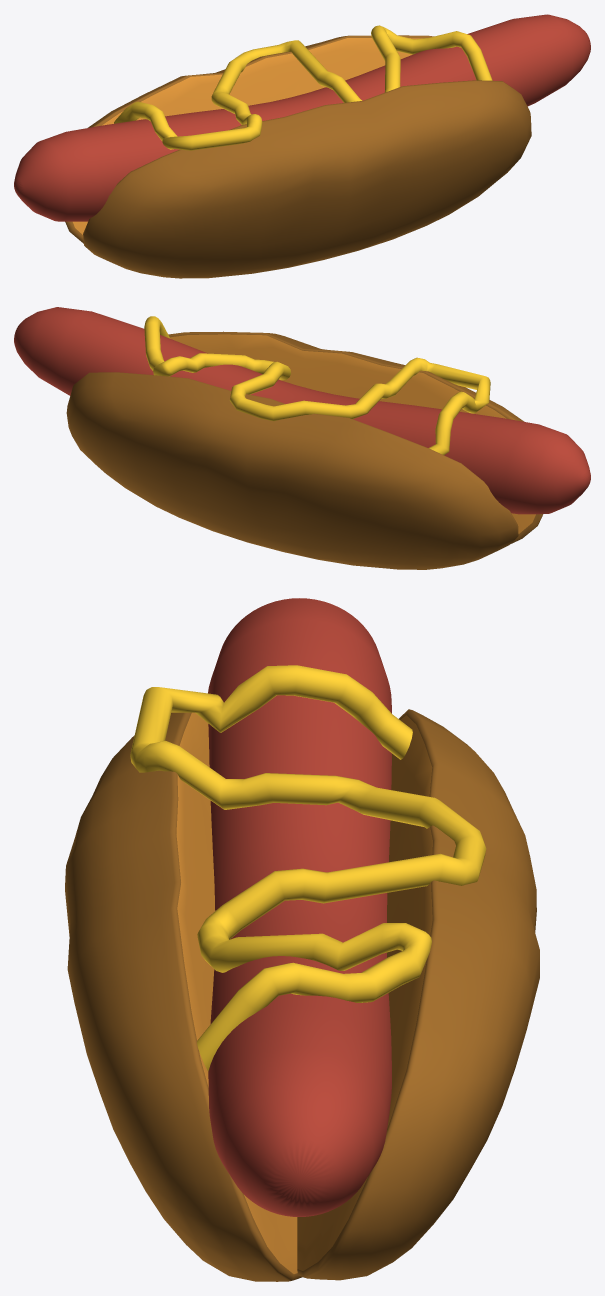
Rendered from hot_dog.fbx.
The picture shows the model from 3 angles, top to bottom: view 1: azimuth 30°, elevation 25°; view 2: azimuth 150°, elevation 25°; view 3: azimuth 270°, elevation 25°; orthographic projection. The views are drawn at different scales.
Visible parts, largest first — view 1: Plane.001; view 2: Plane.001; view 3: Plane.001.
Boxes of the visible parts, <box> form: Plane.001: <box>14,14,590,278</box>; Plane.001: <box>14,307,590,569</box>; Plane.001: <box>65,598,539,1281</box>.
Size of the model in its own units: 174 by 51.87 by 62.66.
